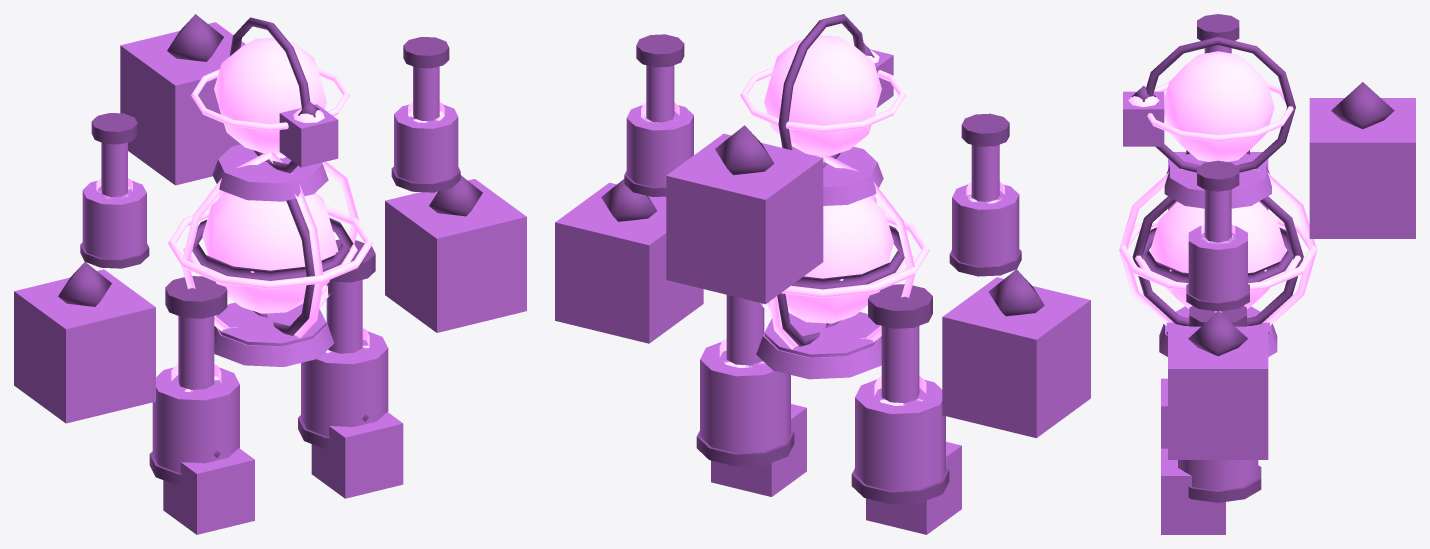
Rendered from golem_140.glb.
The picture shows the model from 3 angles, left to right: view 1: azimuth 30°, elevation 25°; view 2: azimuth 150°, elevation 25°; view 3: azimuth 270°, elevation 25°; orthographic projection. The views are drawn at different scales.
Parts seen in each view (by area): view 1: Body, Glow, Detail; view 2: Body, Glow, Detail; view 3: Body, Glow, Detail.
Boxes of the visible parts, bbox=[...] form: Body: bbox=[14, 22, 526, 534]; Glow: bbox=[96, 38, 444, 392]; Detail: bbox=[58, 14, 482, 485]; Body: bbox=[555, 49, 1090, 534]; Glow: bbox=[641, 35, 1004, 405]; Detail: bbox=[601, 14, 1044, 504]; Body: bbox=[1123, 45, 1415, 534]; Glow: bbox=[1119, 51, 1317, 325]; Detail: bbox=[1131, 14, 1394, 502].
Size of the model in its own units: 1.12 by 1.08 by 0.6467.
